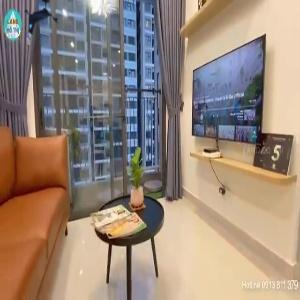drone: (17, 1, 64, 48)
